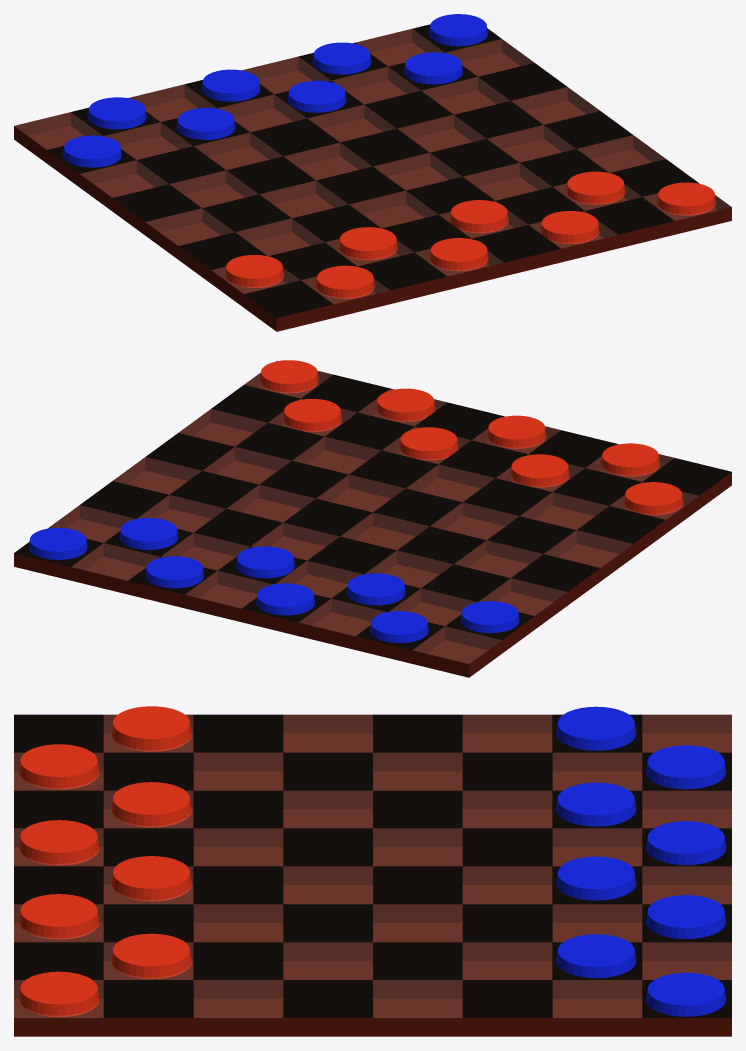
The picture shows the model from 3 angles, top to bottom: view 1: azimuth 30°, elevation 25°; view 2: azimuth 150°, elevation 25°; view 3: azimuth 270°, elevation 25°; orthographic projection. The views are drawn at different scales.
Parts seen in each view (by area): view 1: Cube.032, Cilindro.003, Cilindro.001, Cilindro, Cilindro.002; view 2: Cube.032, Cilindro.003, Cilindro.001, Cilindro.002, Cilindro; view 3: Cube.032, Cilindro.001, Cilindro.003, Cilindro.002, Cilindro.
Boxes of the visible parts, x1,y1,x2,y2 form: Cube.032: [14, 24, 731, 331]; Cilindro.003: [315, 182, 715, 298]; Cilindro.001: [225, 171, 624, 287]; Cilindro: [88, 14, 487, 129]; Cilindro.002: [63, 52, 462, 167]; Cube.032: [14, 361, 731, 677]; Cilindro.003: [259, 360, 659, 476]; Cilindro.001: [283, 399, 682, 515]; Cilindro.002: [119, 517, 519, 633]; Cilindro: [29, 527, 428, 643]; Cube.032: [14, 714, 731, 1036]; Cilindro.001: [111, 706, 191, 979]; Cilindro.003: [18, 744, 99, 1017]; Cilindro.002: [556, 706, 636, 978]; Cilindro: [646, 745, 726, 1016].
Size of the model in its own units: 1600 by 71.99 by 1600.
